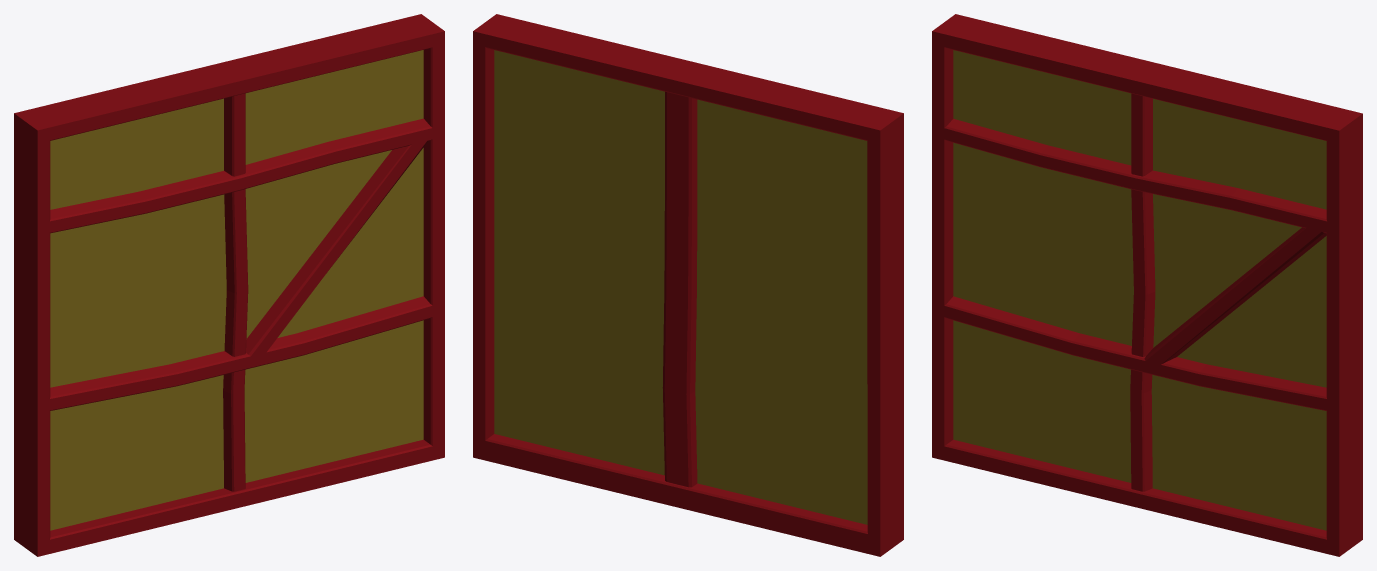
Rendered from SM_MH_01_Plaster_Wall_01.fbx.
3 views of the same model, side by side, from view 1: azimuth 30°, elevation 25°; view 2: azimuth 150°, elevation 25°; view 3: azimuth 330°, elevation 25° (orthographic).
Parts seen in each view (by area): view 1: SM_MH_01_Plaster_Wall_01_LOD0; view 2: SM_MH_01_Plaster_Wall_01_LOD0; view 3: SM_MH_01_Plaster_Wall_01_LOD0.
Boxes of the visible parts, bbox=[...] form: SM_MH_01_Plaster_Wall_01_LOD0: bbox=[14, 14, 444, 556]; SM_MH_01_Plaster_Wall_01_LOD0: bbox=[473, 14, 903, 556]; SM_MH_01_Plaster_Wall_01_LOD0: bbox=[932, 14, 1362, 556].
Size of what is drawn, in the model's own units: 300 by 300 by 30.
